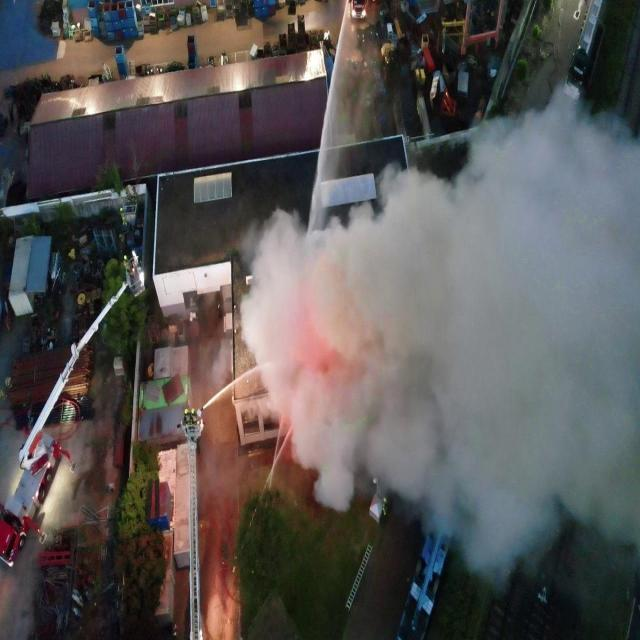Smoke: (211, 81, 640, 598)
